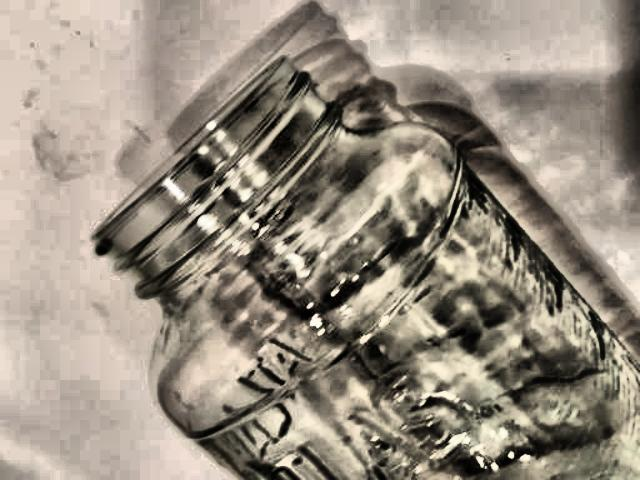Almennt: (60, 48, 640, 479)
